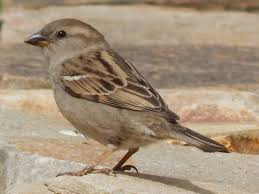hsparrow: (22, 15, 231, 186)
